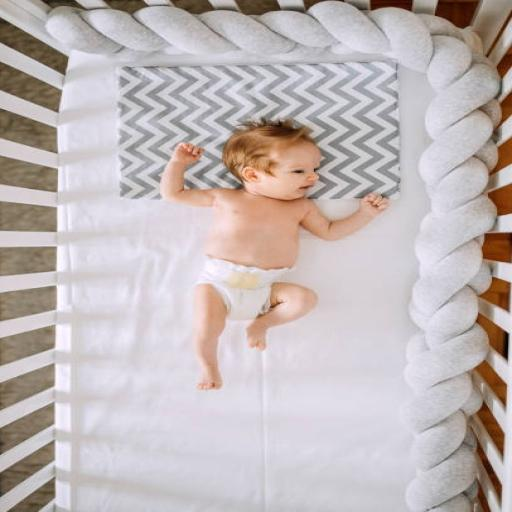baby: (161, 120, 388, 389)
crib: (0, 0, 511, 511)
